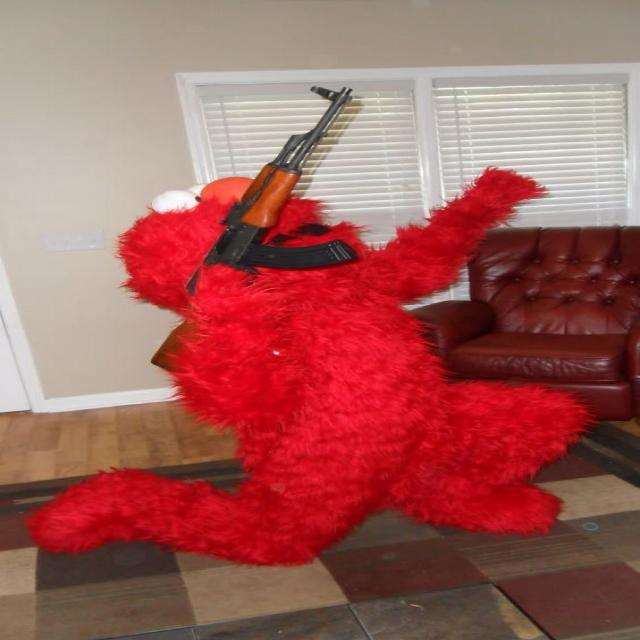ak: (98, 85, 386, 296)
